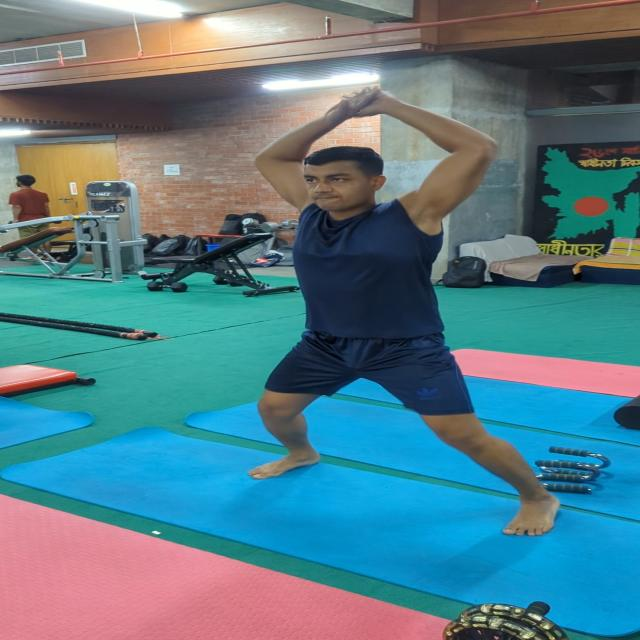Normal_JumpingJacks: (132, 88, 630, 549)
